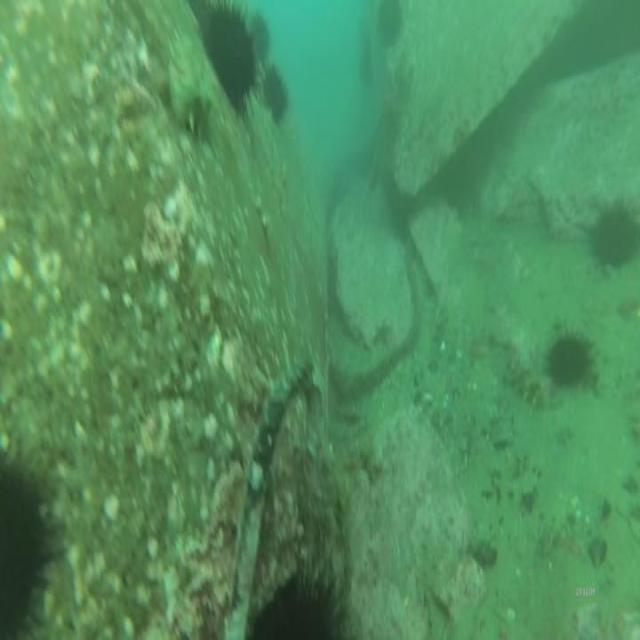echinus: (0, 442, 69, 639), (235, 540, 358, 640), (197, 0, 265, 122), (540, 318, 600, 398), (586, 194, 640, 278), (260, 55, 297, 128), (373, 0, 411, 46)
